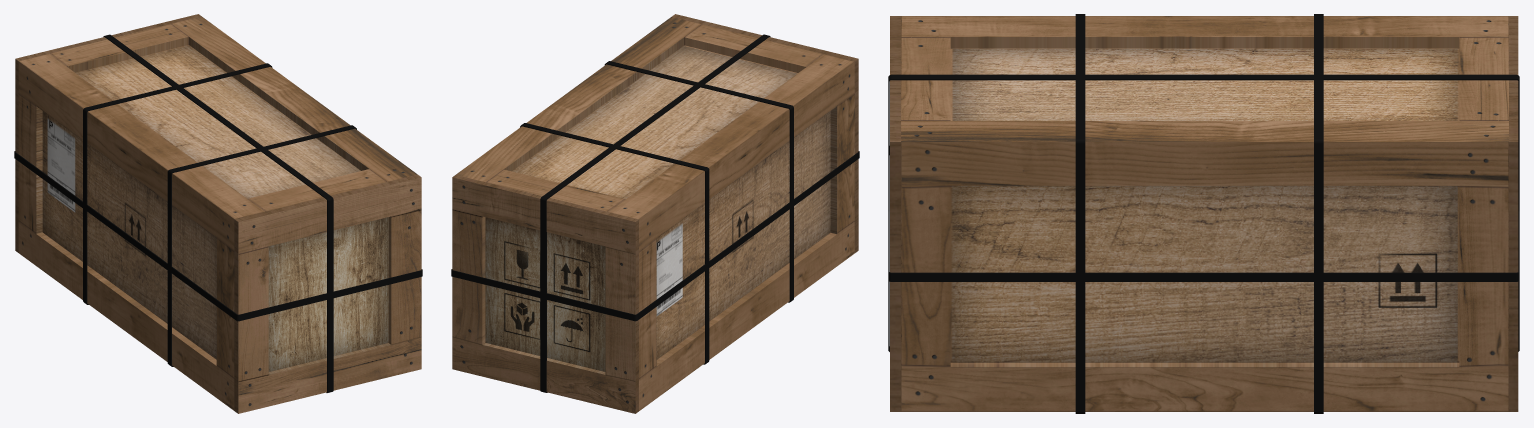
The model's file is cajaMadera.obj.
The picture shows the model from 3 angles, left to right: view 1: azimuth 30°, elevation 25°; view 2: azimuth 150°, elevation 25°; view 3: azimuth 270°, elevation 25°; orthographic projection. The views are drawn at different scales.
Visible parts, largest first — view 1: Cube.006, Cube.009; view 2: Cube.006, Cube.009; view 3: Cube.006, Cube.009.
Boxes of the visible parts, x1,y1,x2,y2 form: Cube.006: [15, 14, 421, 413]; Cube.009: [14, 34, 422, 392]; Cube.006: [452, 14, 858, 413]; Cube.009: [451, 34, 859, 392]; Cube.006: [890, 16, 1518, 411]; Cube.009: [888, 14, 1519, 413].
Size of the model in its own units: 2.05 by 2.06 by 4.29.
